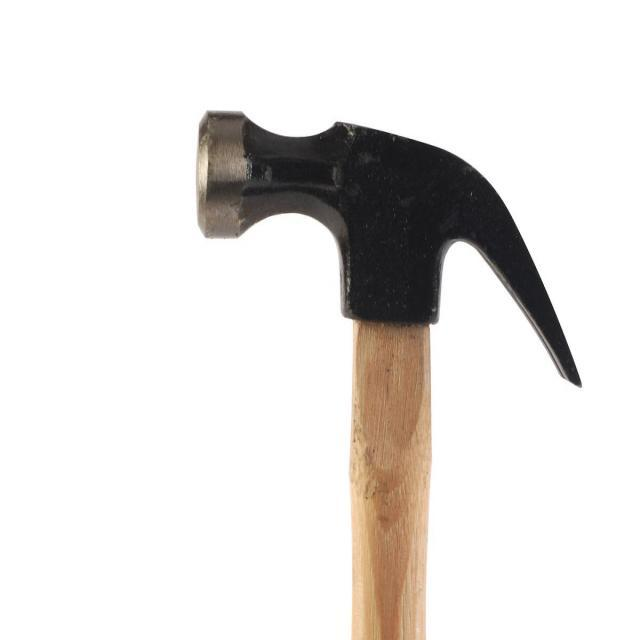hammer: (192, 102, 585, 640)
